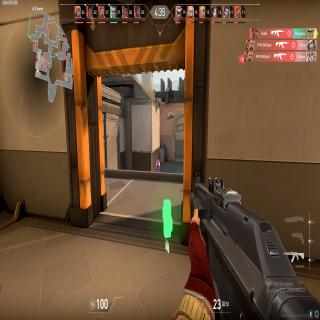ENEMY-BODY: (156, 158, 160, 172)
ENEMY-HEAD: (157, 159, 159, 162)
